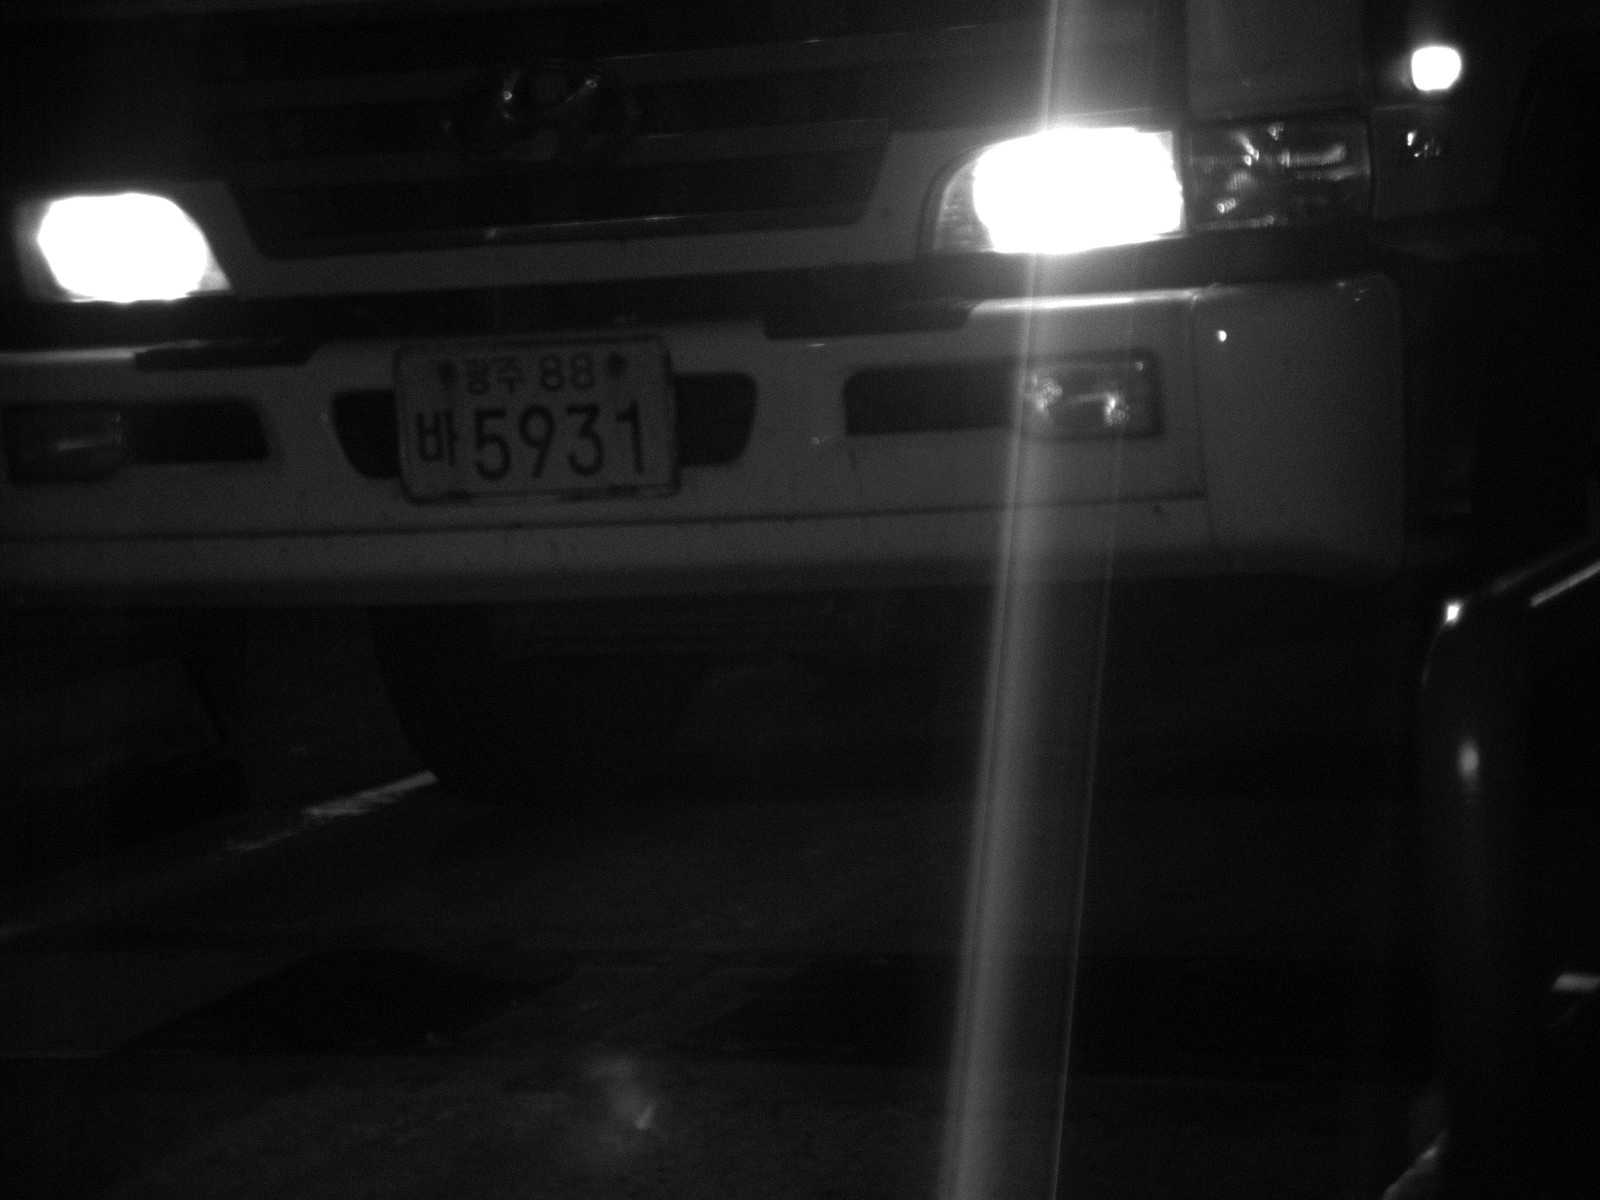car: (1, 1, 1599, 790)
plate: (380, 337, 685, 507)
